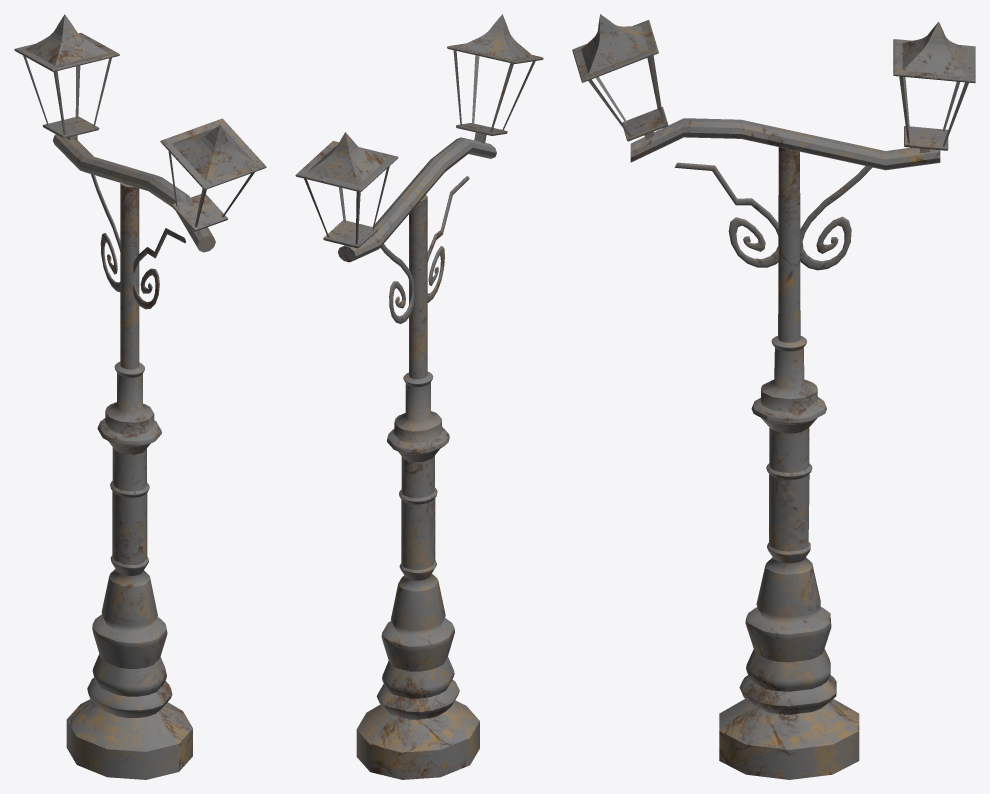
Rendered from lamp small damaged.fbx.
3 renders of one model, left to right at view 1: azimuth 30°, elevation 25°; view 2: azimuth 150°, elevation 25°; view 3: azimuth 270°, elevation 25°, orthographic. The views are drawn at different scales.
Visible parts, largest first — view 1: polySurface10, polySurface13, polySurface9, polySurface11, polySurface12, polySurface14; view 2: polySurface10, polySurface9, polySurface11, polySurface13, polySurface14, polySurface12; view 3: polySurface10, polySurface11, polySurface9, polySurface13, polySurface12, polySurface14.
Boxes of the visible parts, x1=… form: polySurface10: x1=66, y1=182, x2=192, y2=779; polySurface13: x1=160, y1=118, x2=266, y2=231; polySurface9: x1=14, y1=14, x2=119, y2=140; polySurface11: x1=53, y1=134, x2=215, y2=252; polySurface12: x1=133, y1=228, x2=185, y2=309; polySurface14: x1=91, y1=174, x2=120, y2=292; polySurface10: x1=356, y1=195, x2=479, y2=779; polySurface9: x1=295, y1=132, x2=398, y2=248; polySurface11: x1=338, y1=137, x2=496, y2=262; polySurface13: x1=447, y1=14, x2=543, y2=143; polySurface14: x1=380, y1=244, x2=414, y2=323; polySurface12: x1=427, y1=176, x2=469, y2=302; polySurface10: x1=719, y1=147, x2=859, y2=779; polySurface11: x1=630, y1=118, x2=940, y2=170; polySurface9: x1=893, y1=21, x2=975, y2=153; polySurface13: x1=572, y1=14, x2=668, y2=141; polySurface12: x1=674, y1=162, x2=778, y2=267; polySurface14: x1=800, y1=166, x2=872, y2=270.
Bounding box in the file's own units: 0.5683 × 3.54 × 1.75.
Materials: 1 (1 with a texture image).
